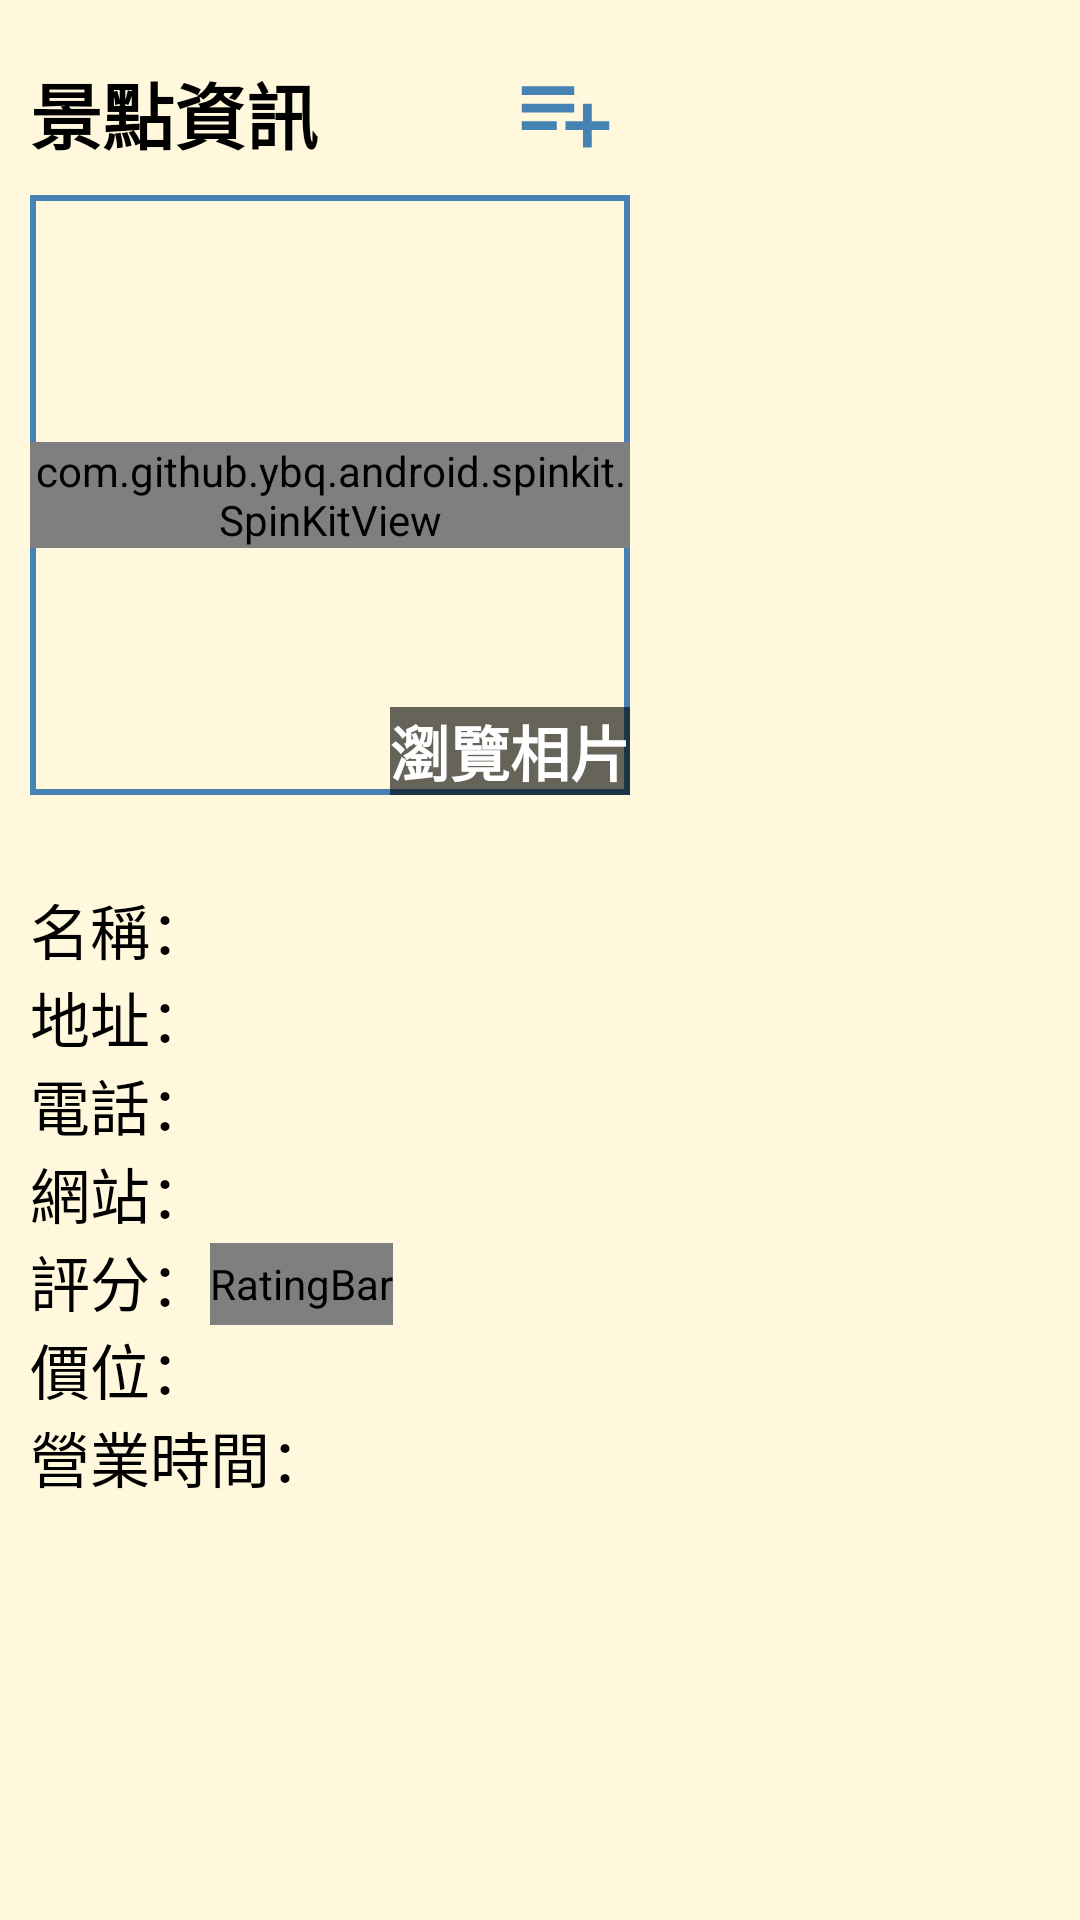

Icon bounding boxes for this 1080px×1920px phone screenshot, format box(x1, y1, x2, y2):
schedule add: box(521, 86, 610, 148)
